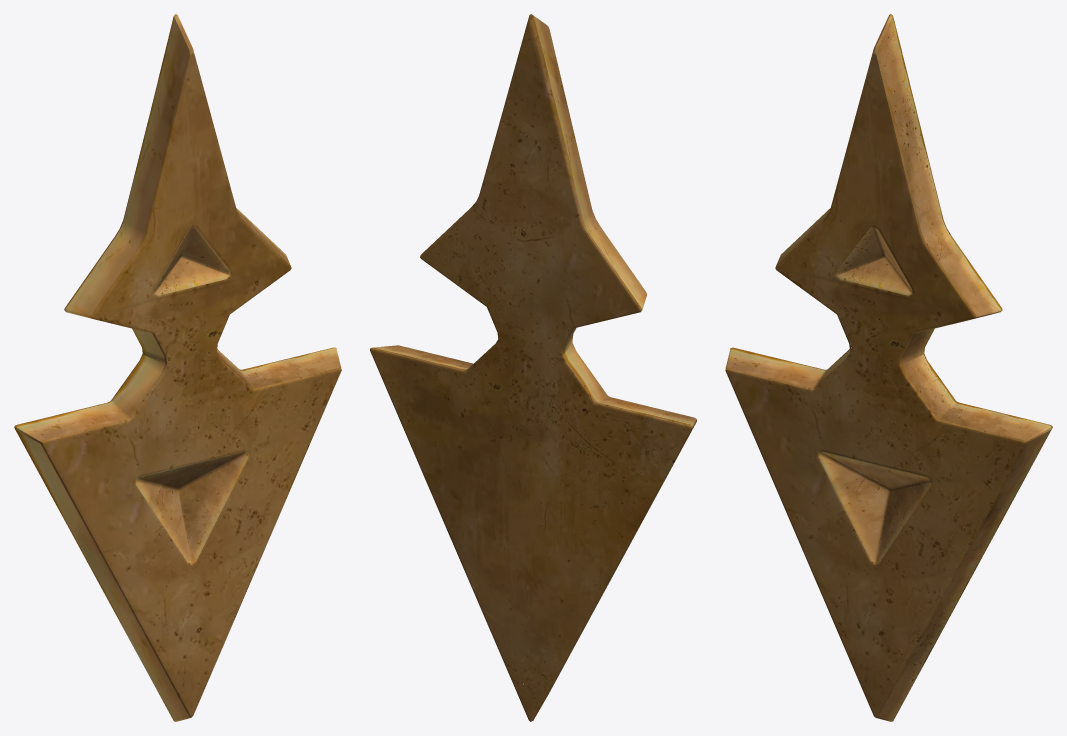
3 views of the same model, side by side, from view 1: azimuth 30°, elevation 25°; view 2: azimuth 150°, elevation 25°; view 3: azimuth 330°, elevation 25° (orthographic).
Visible parts, largest first — view 1: SM_Kuldras_Arena_RingPiece_07_LOD0; view 2: SM_Kuldras_Arena_RingPiece_07_LOD0; view 3: SM_Kuldras_Arena_RingPiece_07_LOD0.
Part boxes in pixels (<box>): SM_Kuldras_Arena_RingPiece_07_LOD0: <box>14,14,341,721</box>; SM_Kuldras_Arena_RingPiece_07_LOD0: <box>370,14,696,721</box>; SM_Kuldras_Arena_RingPiece_07_LOD0: <box>725,14,1052,721</box>.
Bounding box in the file's own units: 5.79 × 12.17 × 0.5726.
Materials: 1 (1 with a texture image).
